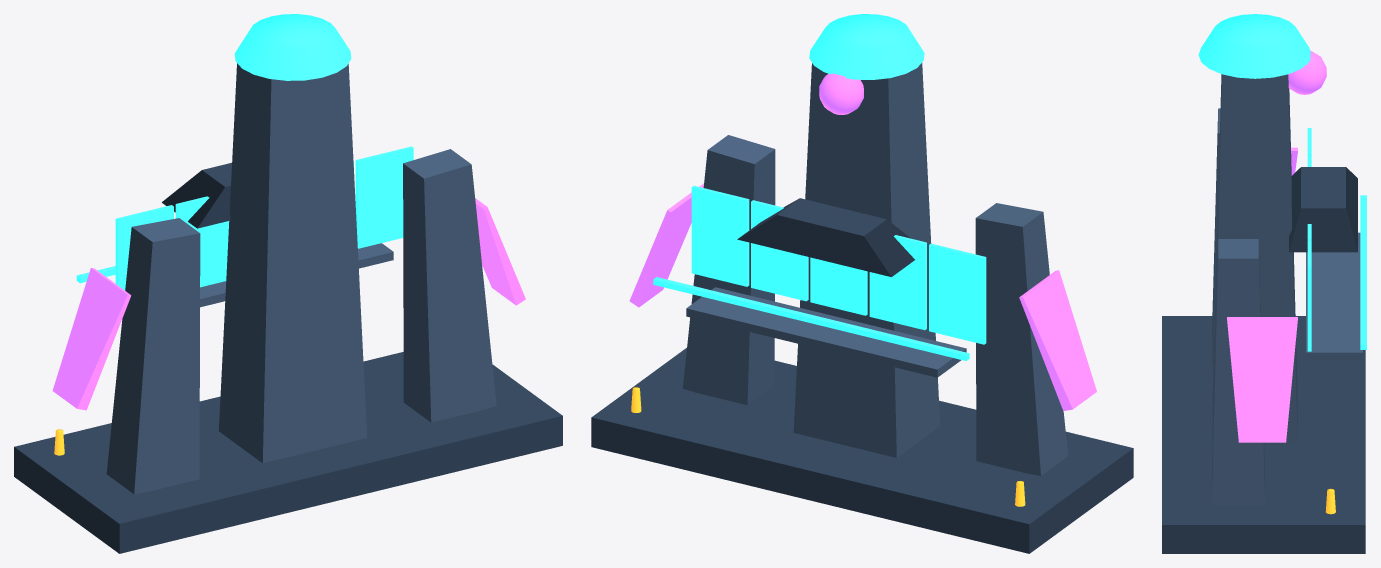
The model's file is command-horizon-command-deck-lod0.glb.
3 views of the same model, side by side, from view 1: azimuth 30°, elevation 25°; view 2: azimuth 150°, elevation 25°; view 3: azimuth 270°, elevation 25° (orthographic). The views are drawn at different scales.
Parts seen in each view (by area): view 1: deck-main-tower, deck-foundation, deck-wing--1, deck-wing-1, deck-crown, deck-fin--1, deck-facade-4, deck-canopy, deck-fin-1, deck-facade-1, deck-facade-0, deck-balcony; view 2: deck-foundation, deck-main-tower, deck-wing--1, deck-wing-1, deck-canopy, deck-balcony, deck-crown, deck-fin--1, deck-facade-4, deck-facade-0, deck-facade-1, deck-facade-3 (+6 smaller); view 3: deck-foundation, deck-main-tower, deck-wing-1, deck-fin-1, deck-balcony, deck-crown, deck-canopy, deck-holo-core, deck-wing--1, deck-facade-4.
Boxes of the visible parts, left/top/right/bottom form: deck-main-tower: left=219, top=63, right=367, bottom=463; deck-foundation: left=14, top=352, right=562, bottom=553; deck-wing--1: left=106, top=218, right=200, bottom=494; deck-wing-1: left=403, top=149, right=496, bottom=422; deck-crown: left=234, top=14, right=351, bottom=80; deck-fin--1: left=52, top=268, right=131, bottom=410; deck-facade-4: left=355, top=146, right=413, bottom=248; deck-canopy: left=162, top=162, right=231, bottom=228; deck-fin-1: left=475, top=198, right=525, bottom=305; deck-facade-1: left=175, top=196, right=229, bottom=287; deck-facade-0: left=115, top=205, right=173, bottom=290; deck-balcony: left=200, top=243, right=393, bottom=307; deck-foundation: left=591, top=348, right=1133, bottom=553; deck-main-tower: left=793, top=63, right=940, bottom=457; deck-wing--1: left=975, top=203, right=1067, bottom=475; deck-wing-1: left=683, top=135, right=775, bottom=405; deck-canopy: left=737, top=198, right=914, bottom=276; deck-balcony: left=686, top=287, right=966, bottom=377; deck-crown: left=809, top=14, right=924, bottom=79; deck-fin--1: left=1019, top=270, right=1096, bottom=410; deck-facade-4: left=691, top=185, right=749, bottom=286; deck-facade-0: left=929, top=243, right=986, bottom=344; deck-facade-1: left=869, top=235, right=926, bottom=330; deck-facade-3: left=751, top=200, right=808, bottom=301; deck-foundation: left=1162, top=316, right=1365, bottom=553; deck-main-tower: left=1212, top=74, right=1297, bottom=444; deck-wing-1: left=1212, top=239, right=1264, bottom=504; deck-fin-1: left=1227, top=317, right=1297, bottom=442; deck-balcony: left=1306, top=232, right=1362, bottom=360; deck-crown: left=1198, top=14, right=1310, bottom=78; deck-canopy: left=1289, top=167, right=1357, bottom=252; deck-holo-core: left=1288, top=50, right=1326, bottom=94; deck-wing--1: left=1212, top=108, right=1220, bottom=365; deck-facade-4: left=1307, top=241, right=1311, bottom=351.
Bounding box in the file's own units: 6.89 × 6.33 × 2.81.
